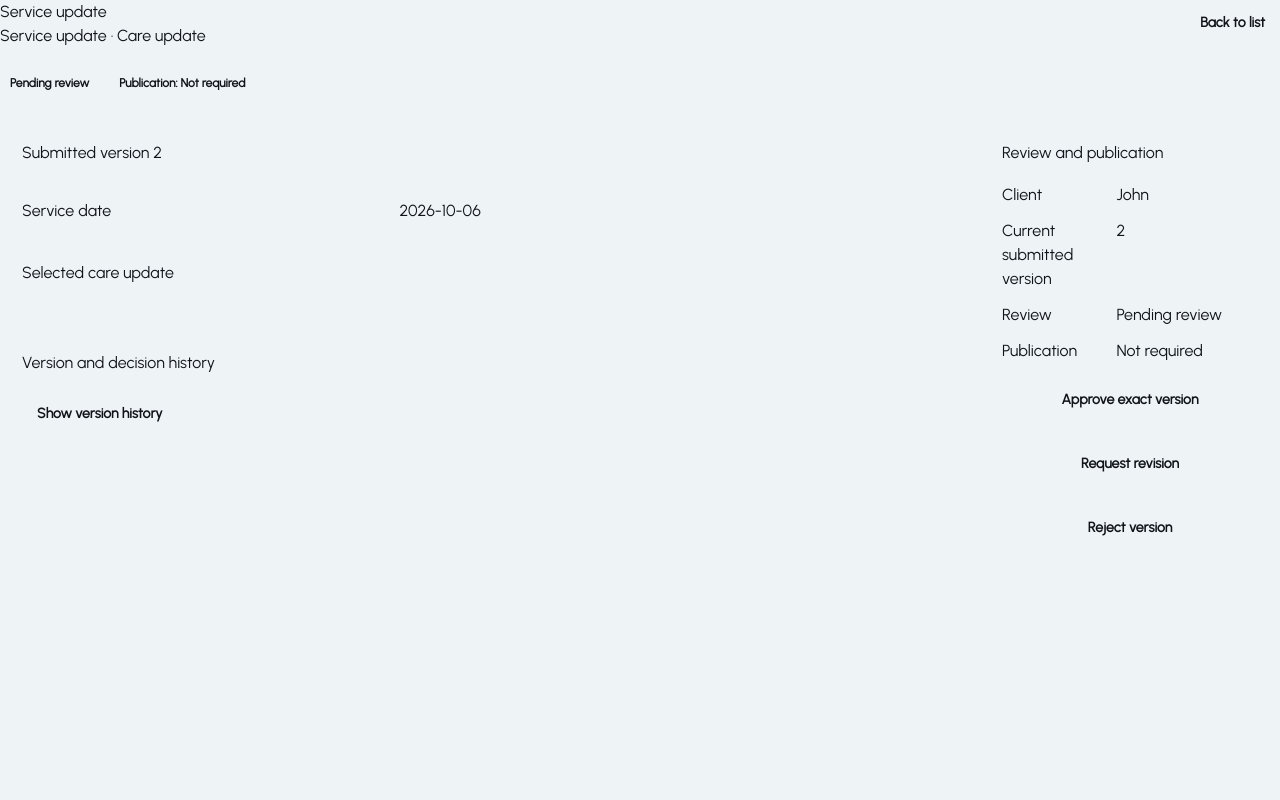
Scenario: requires a rejection reason and submits the exact displayed version and revision
Later steps or results of the test are not shown.
Click the button "Reject version" at [1130, 528], box [1002,507,1258,549]
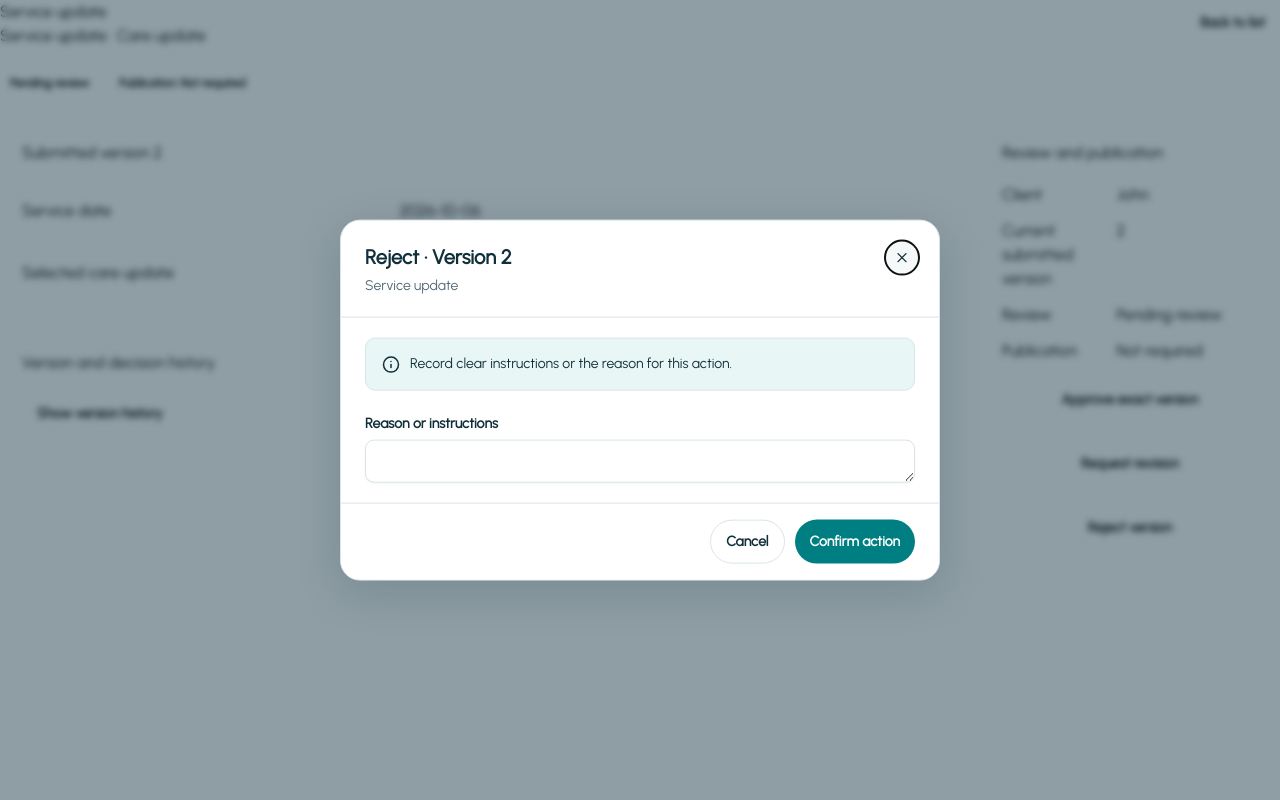
Submit the form named "Confirm action", box [341,318,939,579]
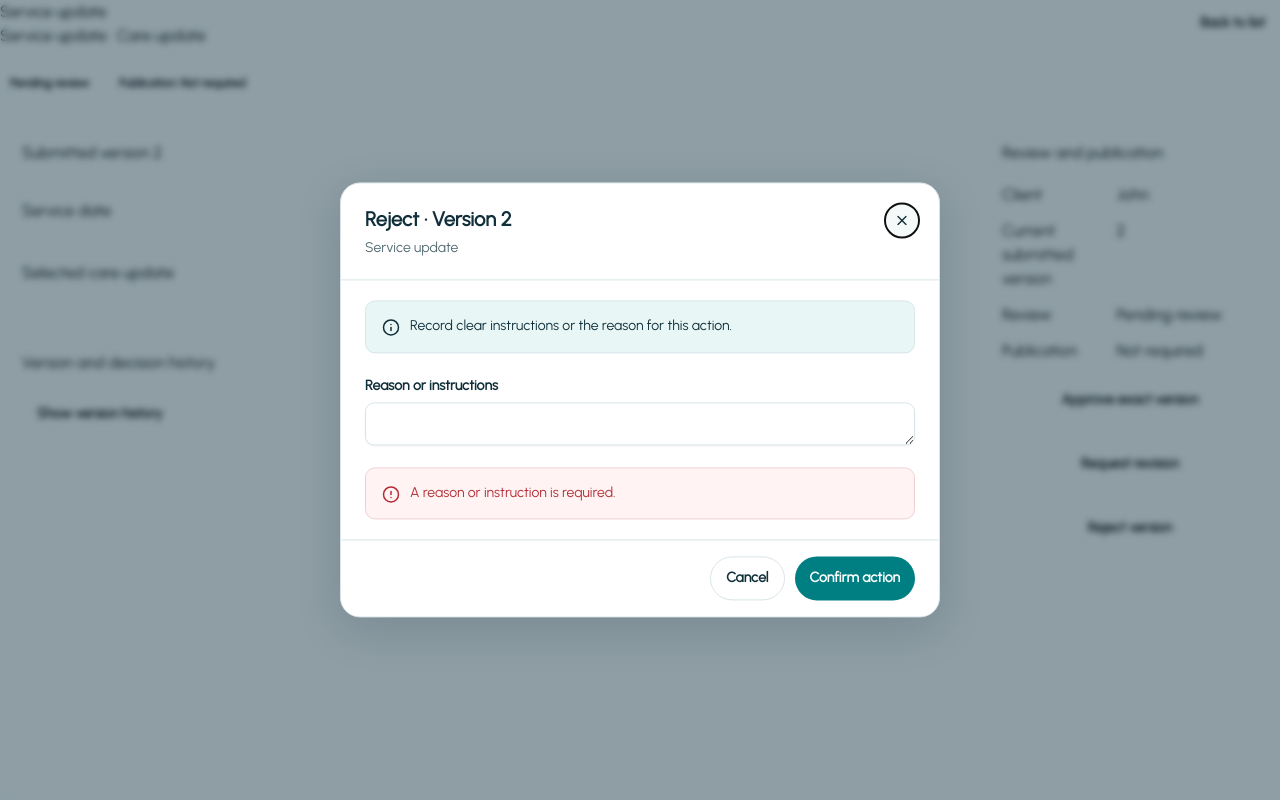
Check: the text "A reason or instruction is required." is shown, box [410,484,616,501]
